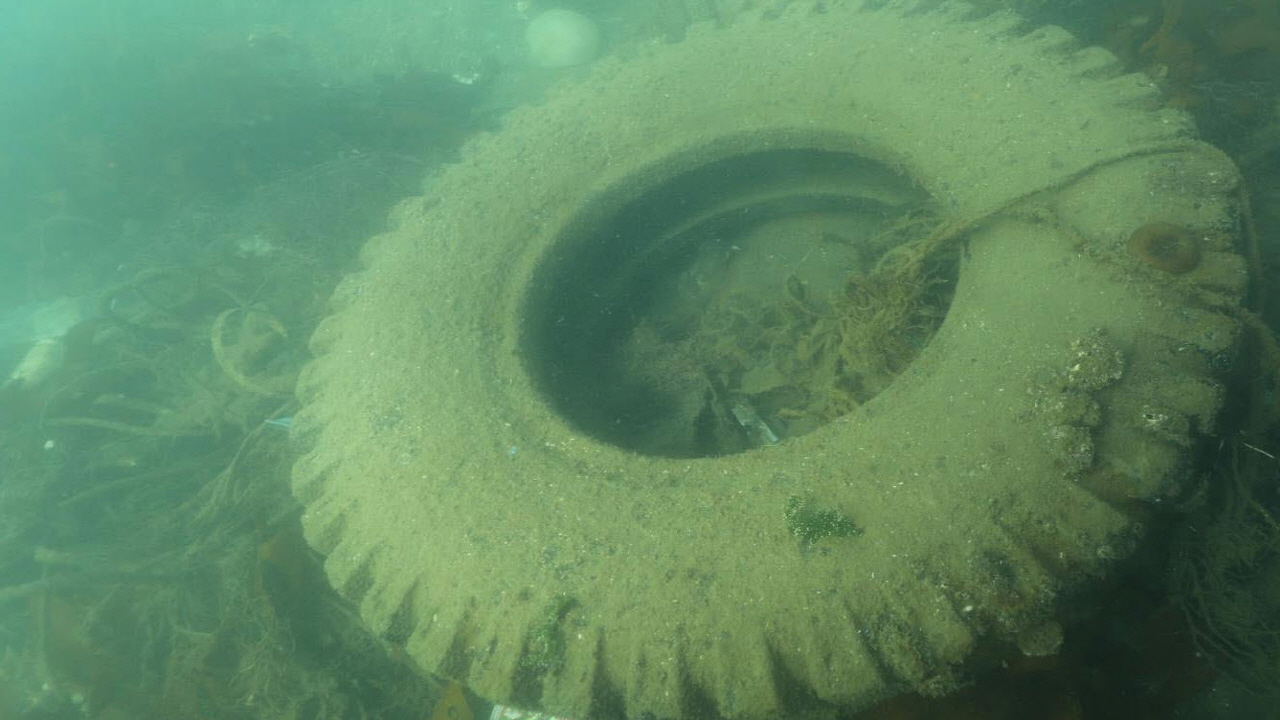bundle of ropes: (880, 128, 1272, 371)
tire: (286, 0, 1252, 720)
